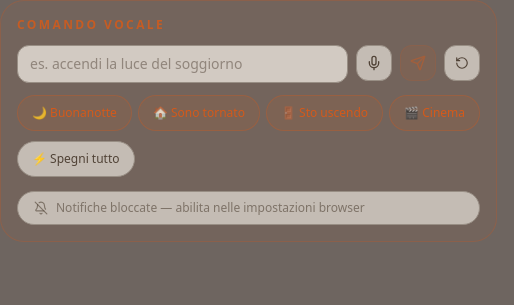
Scenario: NLCommandBar — flusso voce › 8 — mostra "Nessun testo riconosciuto" se la risposta non contiene data.text
Click the button named "Avvia registrazione vocale" at (374, 63), box top-left (356, 45), bottom-right (392, 81)
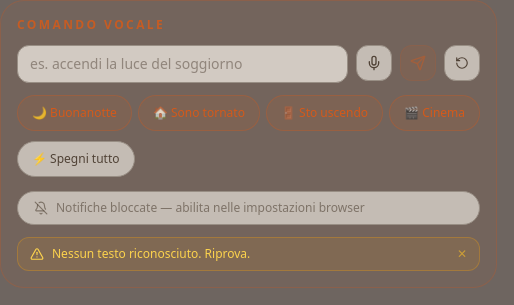
expect the text "Nessun testo riconosciuto. Riprova." is shown: met, box top-left (52, 246), bottom-right (250, 262)
